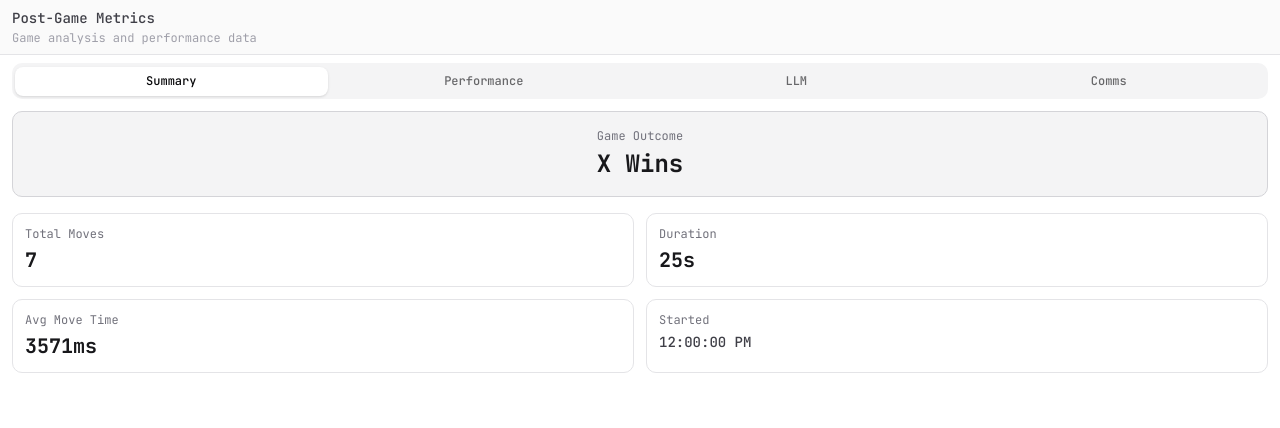
PostGameMetrics › LLMTab › displays 'No LLM interactions' message and shows config when empty
Click the tab "LLM" at (796, 81), box [640, 66, 952, 96]
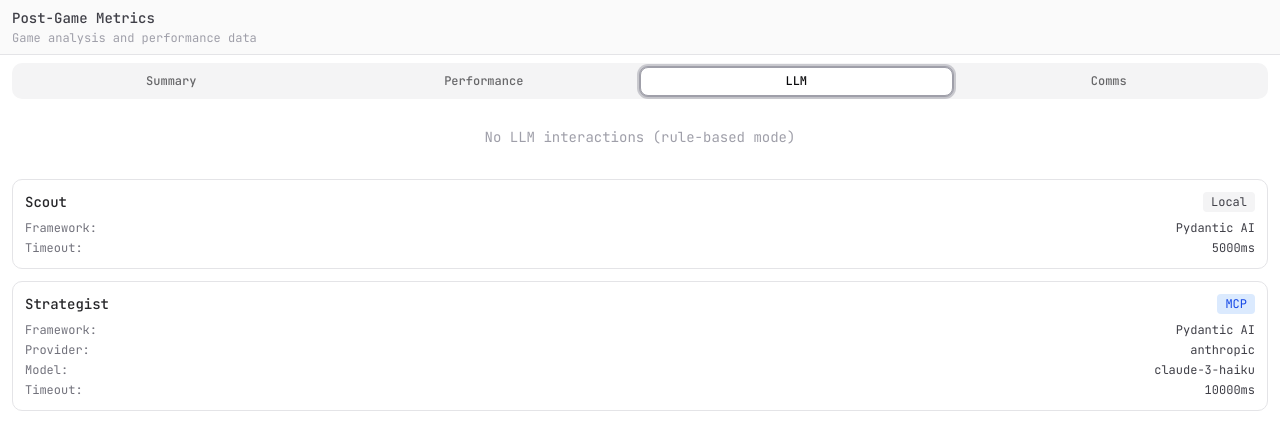
Now the text "No LLM interactions (rule-based mode)" is shown, box [485, 128, 795, 146]
